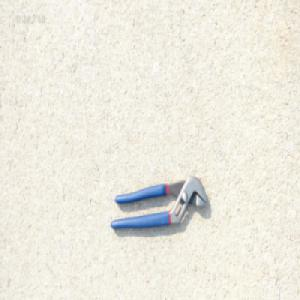Pliers: (109, 172, 210, 228)
